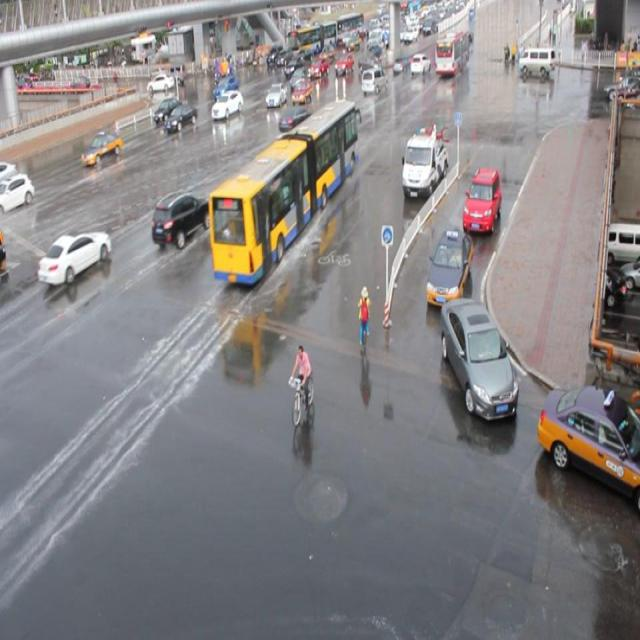bus: (400, 127, 448, 198)
car: (536, 384, 640, 510), (440, 295, 518, 420), (37, 228, 112, 284), (424, 226, 472, 307), (150, 192, 212, 247), (462, 166, 502, 232), (1, 172, 35, 217), (276, 128, 311, 166), (82, 133, 122, 164), (278, 104, 313, 133), (211, 90, 243, 120), (165, 104, 197, 133), (153, 97, 183, 123), (360, 68, 387, 94), (213, 76, 239, 102), (1, 161, 19, 196), (266, 82, 288, 109), (291, 78, 312, 105)
van: (208, 97, 357, 285)
